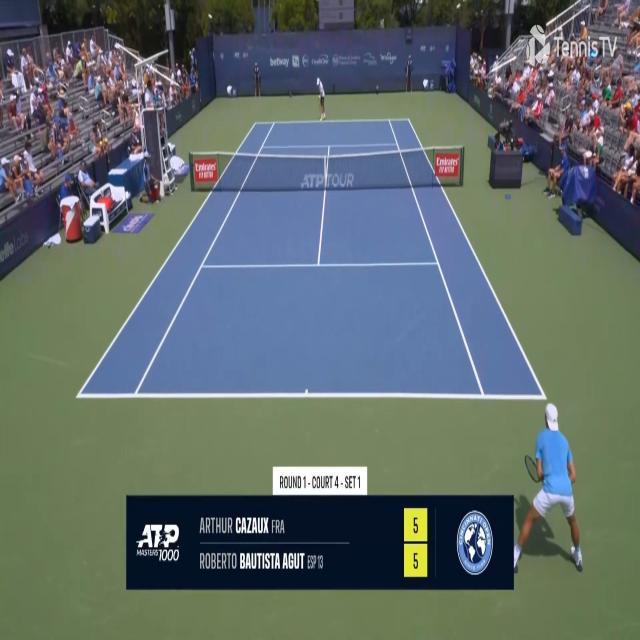tennis-player: (518, 396, 586, 575), (314, 76, 326, 123)
